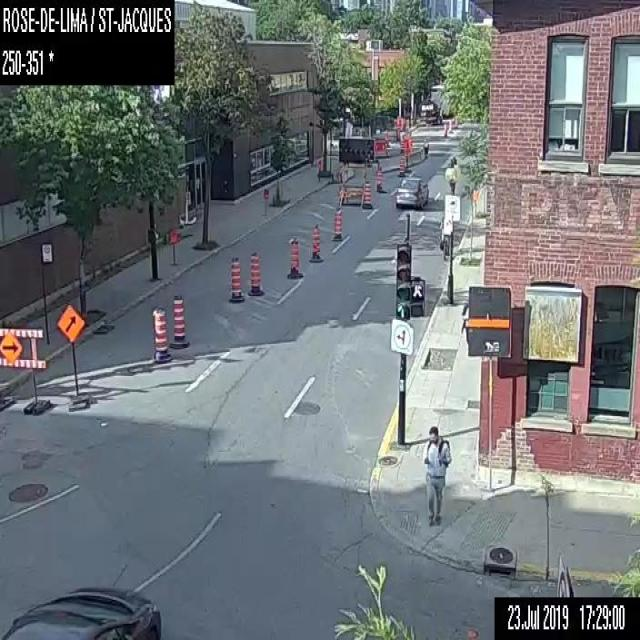construction: (0, 324, 46, 412), (55, 300, 89, 409), (338, 136, 373, 207), (395, 176, 428, 209), (168, 295, 188, 346), (150, 308, 168, 363), (227, 254, 244, 302), (245, 252, 263, 296), (286, 234, 302, 278), (166, 228, 176, 269), (309, 224, 319, 261), (332, 205, 342, 240), (361, 180, 373, 208), (372, 137, 388, 156), (404, 136, 412, 172), (260, 187, 268, 217), (394, 116, 402, 142), (375, 168, 383, 191), (314, 158, 321, 180), (398, 158, 405, 175), (442, 122, 446, 139), (447, 119, 452, 131), (0, 349, 5, 359), (0, 332, 4, 343)
cyclist: (439, 218, 448, 260)
pedestrian: (424, 427, 450, 525)
vehicle: (1, 585, 160, 639)
